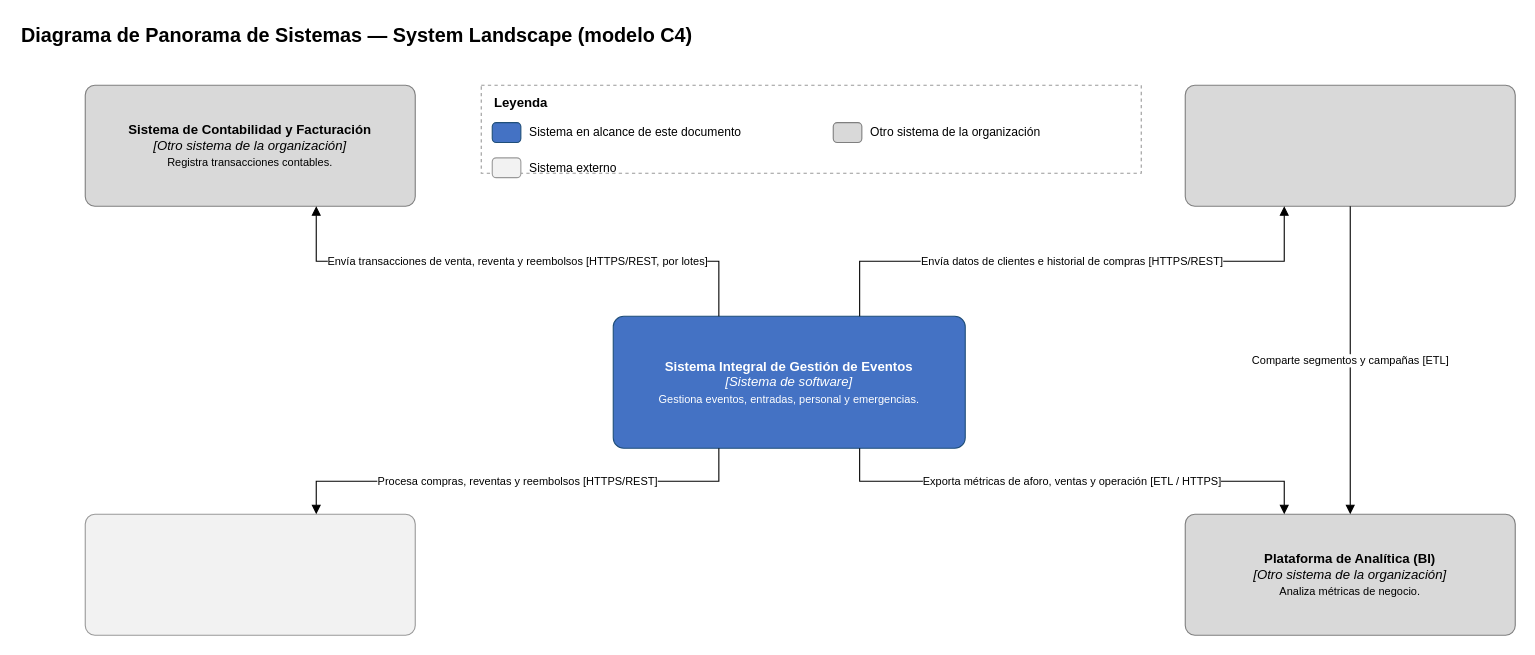
Some shapes in this 1535 by 655 pixel diagram are drawn without their labels. The shapes that lost their labels are listed below. From the top down, each one's box as (x1, y1, x2, y2) in pixels, then its label:
(1184, 84, 1515, 206): CRM y Marketing [Otro sistema de la organización] Gestiona clientes y campañas.
(84, 513, 415, 635): Pasarela de Pagos [Sistema externo] Procesa compras, reventas y reembolsos.
